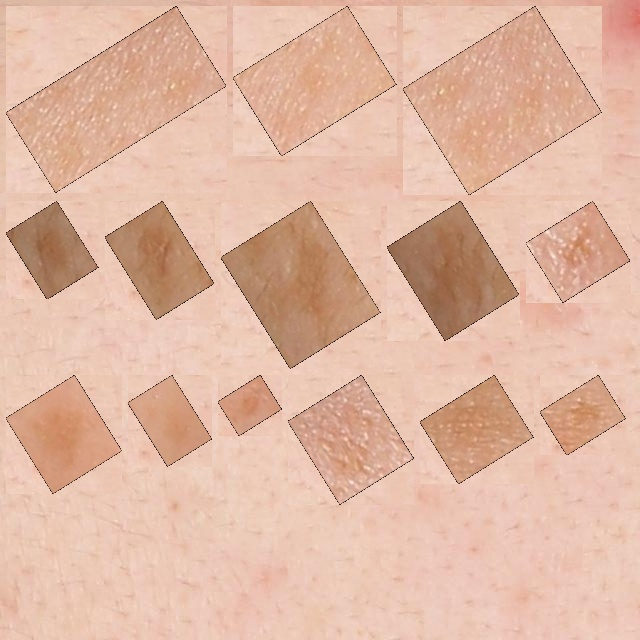melasma: (17, 17, 215, 181), (414, 17, 591, 184), (232, 212, 369, 357), (244, 17, 385, 145), (398, 212, 508, 329), (299, 386, 403, 493), (17, 386, 111, 482), (116, 212, 203, 308), (431, 386, 522, 473), (537, 212, 619, 291), (17, 212, 87, 288), (139, 386, 201, 455), (551, 386, 615, 444), (229, 386, 271, 424)
